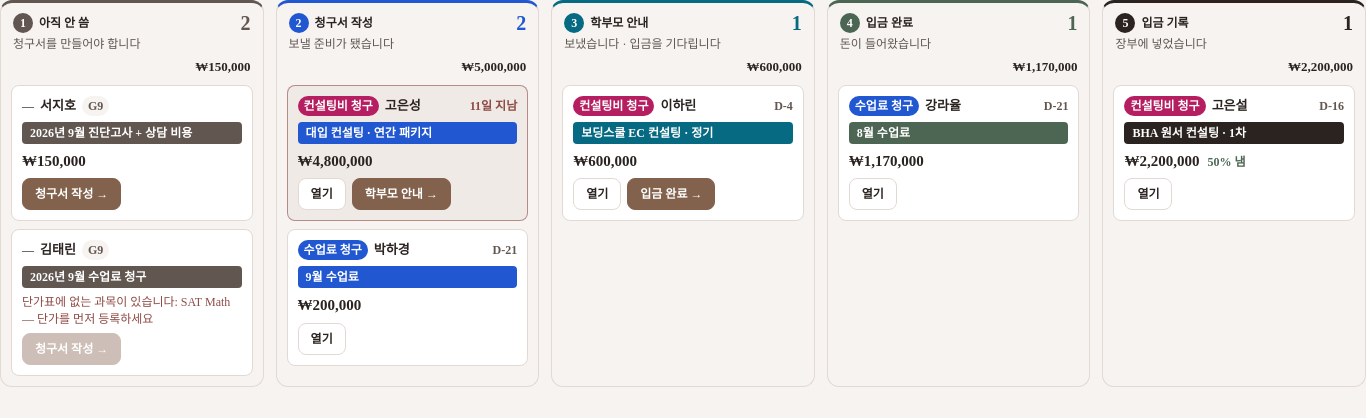
Test: 전달이 막히면 그 카드 밑에 서버 문장을 그대로 둔다
The image size is (1366, 418).
Click the button with aria-label "고은성 학부모 안내 →" at [401, 194], box x1=352 y1=178 x2=451 y2=210
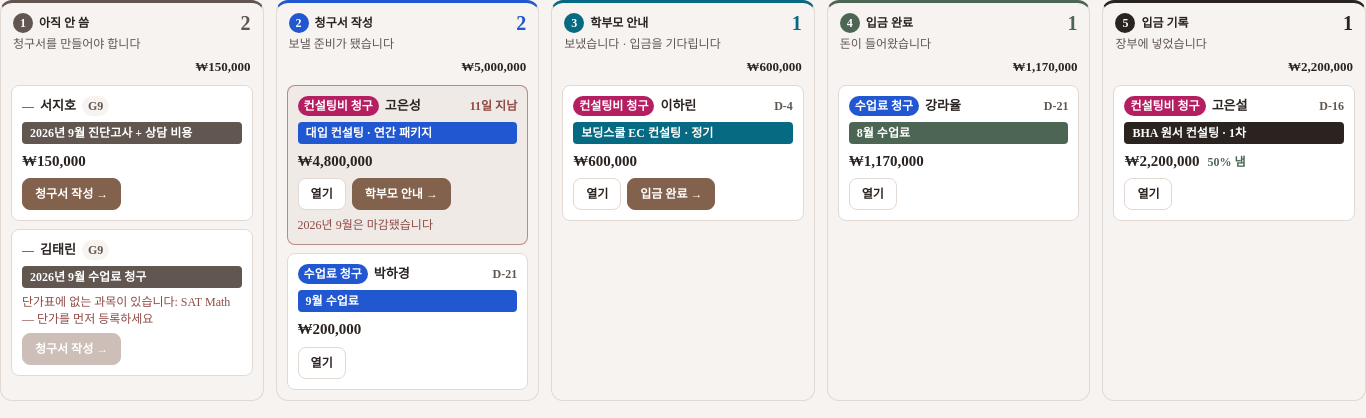
expect the text "2026년 9월은 마감됐습니다" is shown: met, box x1=298 y1=218 x2=433 y2=232
